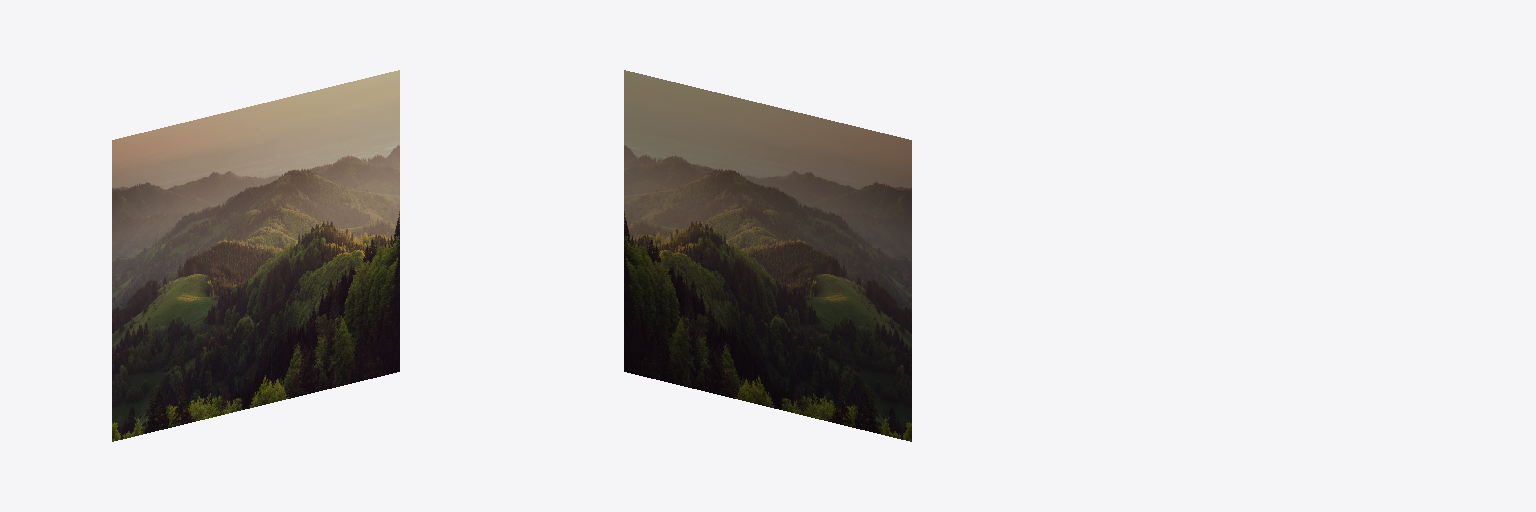
The picture shows the model from 3 angles: view 1: azimuth 30°, elevation 25°; view 2: azimuth 150°, elevation 25°; view 3: azimuth 270°, elevation 25°; orthographic projection.
Visible parts, largest first — view 1: plane; view 2: plane; view 3: none.
Part boxes in pixels (x1,y1,x2,y2): plane: (112,70,399,441); plane: (624,70,911,441).
Size of the model in its own units: 1 by 1 by 0.
Materials: 1 (1 with a texture image).